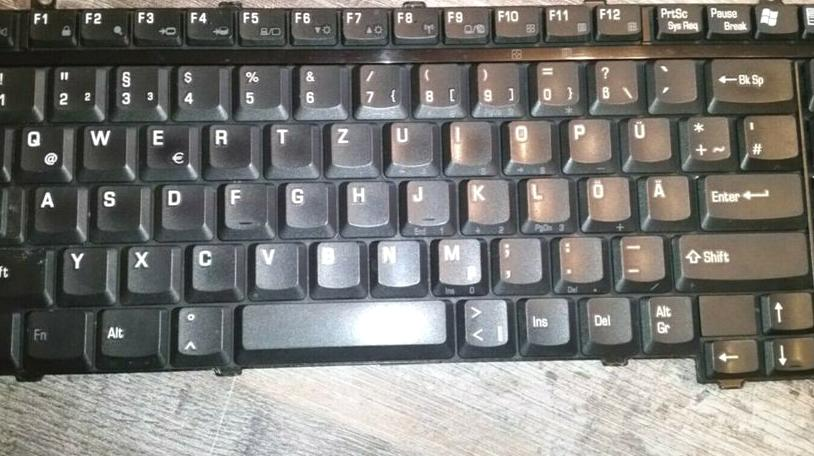0: (531, 56, 578, 107)
1: (1, 64, 34, 116)
2: (47, 63, 98, 119)
3: (107, 62, 160, 117)
4: (172, 62, 220, 113)
5: (233, 61, 281, 112)
6: (293, 61, 340, 111)
7: (354, 60, 404, 112)
8: (414, 59, 461, 113)
9: (472, 58, 519, 111)
a: (31, 182, 77, 232)
accent: (648, 54, 695, 103)
ae: (641, 172, 689, 220)
alt-left: (95, 303, 160, 358)
altgr-right: (637, 291, 692, 345)
b: (310, 236, 359, 287)
c: (186, 239, 235, 291)
caret: (172, 302, 222, 355)
comma: (493, 234, 541, 284)
d: (155, 179, 203, 230)
del: (705, 53, 792, 103)
e: (140, 120, 192, 177)
enter: (695, 168, 802, 219)
f: (219, 177, 267, 231)
g: (279, 177, 326, 227)
h: (341, 177, 388, 225)
hash: (740, 111, 798, 161)
i: (445, 116, 491, 164)
j: (401, 175, 448, 224)
k: (462, 174, 509, 224)
keyboard: (1, 1, 814, 383)
l: (521, 173, 568, 221)
less: (459, 294, 508, 347)
m: (431, 233, 481, 284)
minus: (613, 231, 663, 281)
n: (371, 235, 419, 285)
o: (502, 116, 551, 163)
oe: (581, 173, 629, 221)
p: (562, 114, 610, 161)
plus: (679, 111, 729, 162)
point: (553, 232, 603, 282)
q: (15, 121, 67, 177)
r: (203, 120, 251, 168)
s: (92, 181, 140, 232)
shift-left: (1, 243, 49, 299)
shift-lock: (1, 185, 31, 235)
shift-right: (671, 228, 808, 281)
space: (237, 296, 447, 349)
ss: (588, 55, 637, 106)
strg-left: (1, 307, 34, 364)
t: (266, 119, 313, 169)
tab: (1, 122, 24, 182)
u: (385, 117, 432, 167)
ue: (622, 113, 671, 162)
v: (250, 237, 297, 288)
w: (78, 120, 126, 170)
x: (123, 240, 170, 292)
y: (58, 242, 106, 294)
z: (327, 118, 371, 167)
